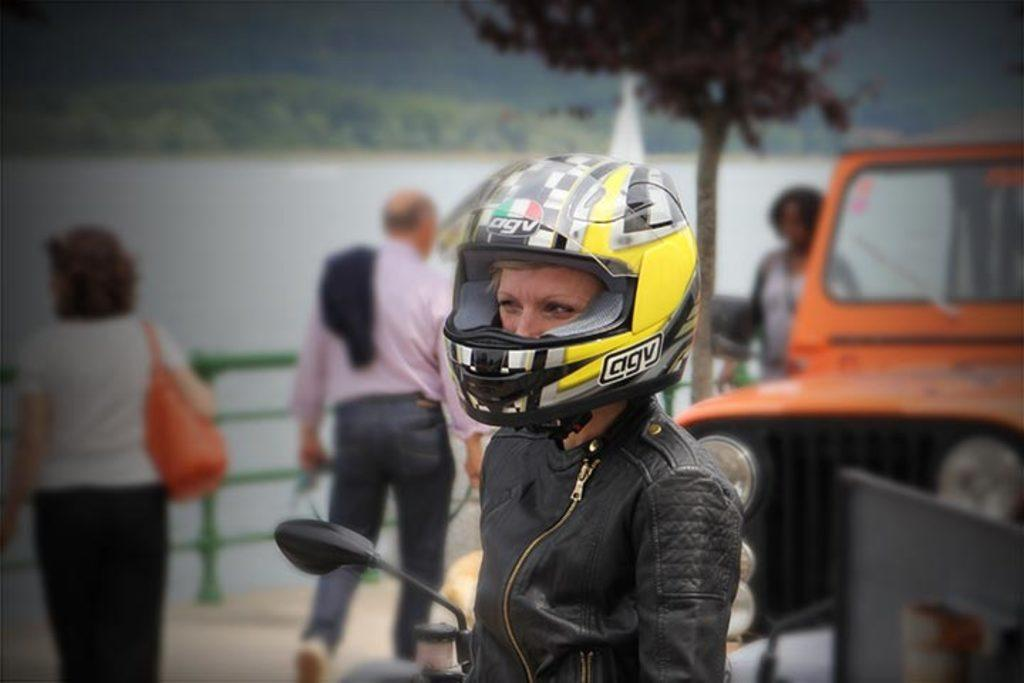helmet: (440, 152, 702, 427)
nohelmet: (42, 223, 134, 329), (379, 185, 442, 268), (768, 185, 831, 254)
